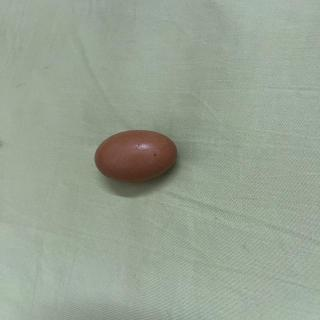Telur: (91, 125, 182, 187)
